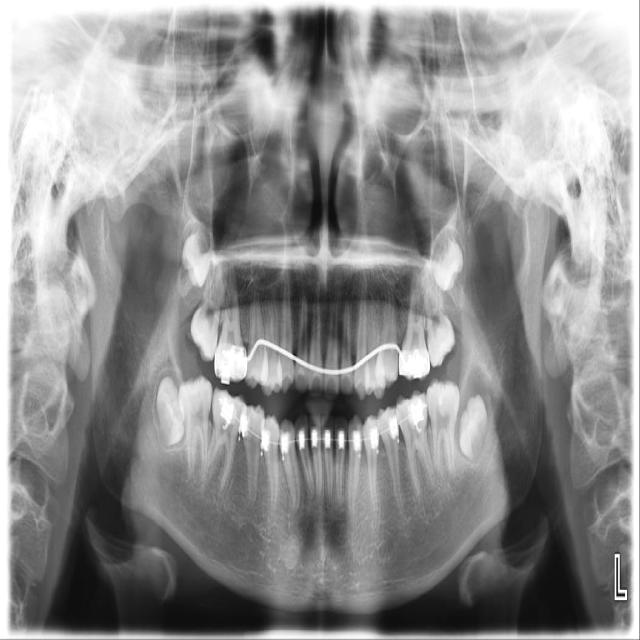Filling: (215, 340, 247, 385), (398, 343, 430, 381)
